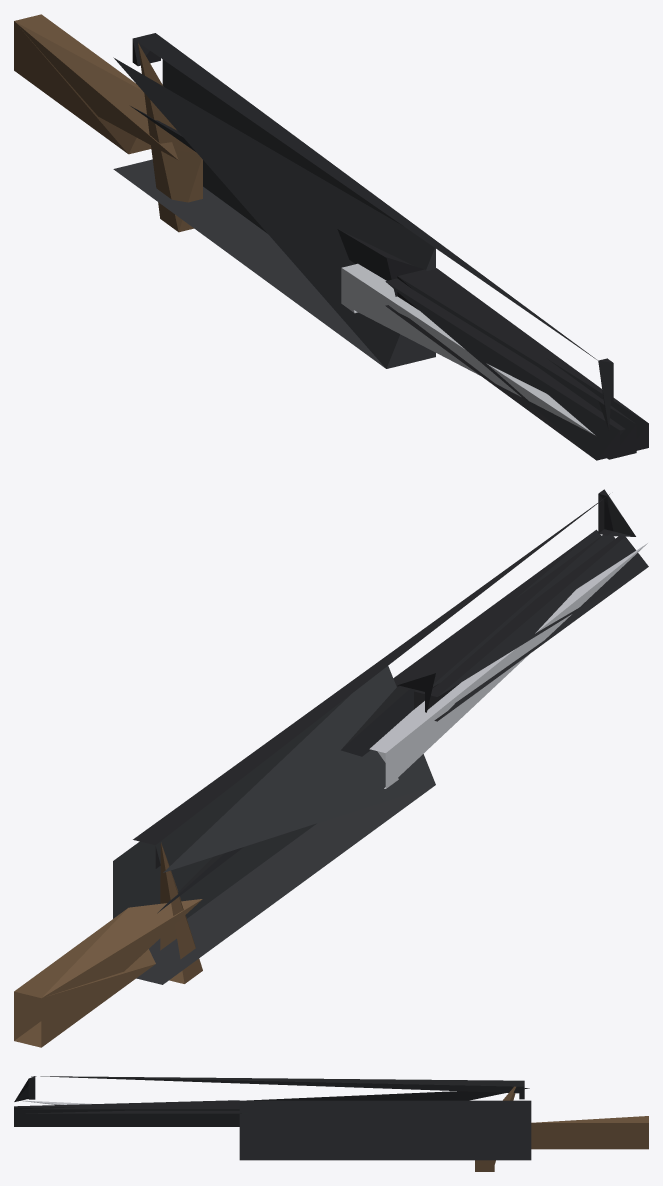
The model's file is olympia.obj.
The picture shows the model from 3 angles, top to bottom: view 1: azimuth 30°, elevation 25°; view 2: azimuth 150°, elevation 25°; view 3: azimuth 270°, elevation 25°; orthographic projection. The views are drawn at different scales.
Bounding box in the file's own units: 0.0686 × 0.2145 × 1.35.
